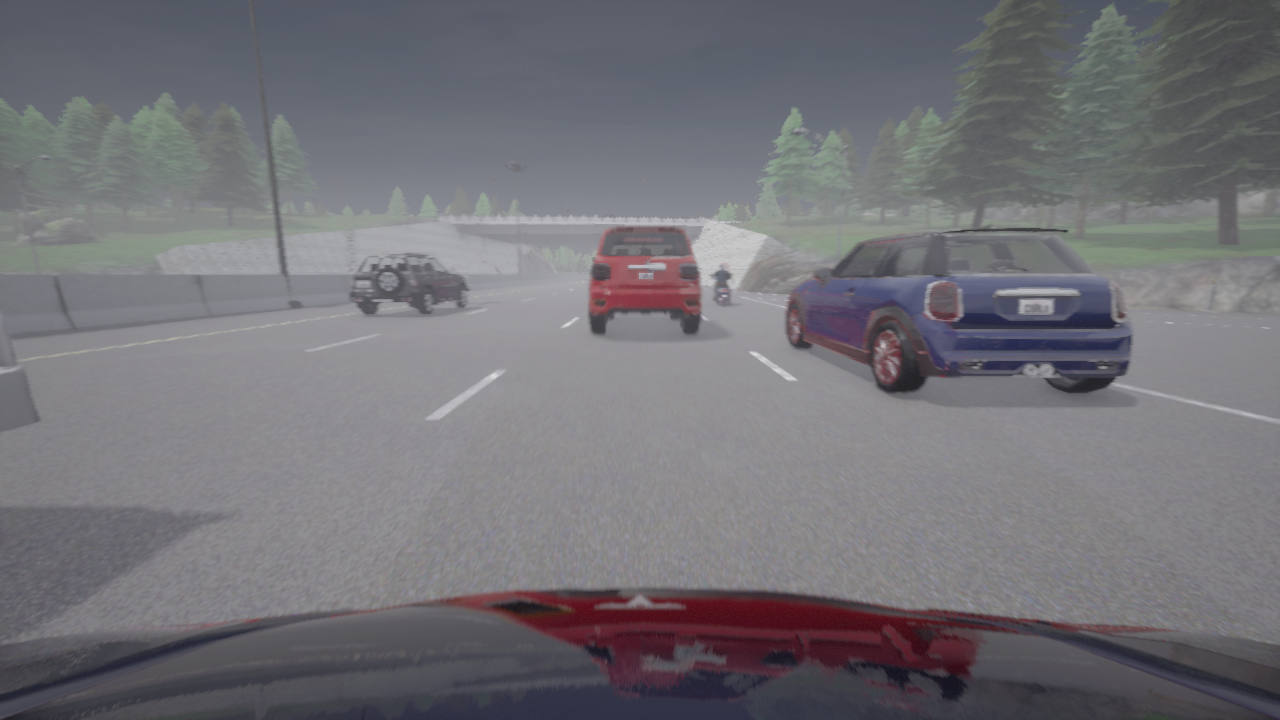cyclist: (0, 588, 1279, 719), (785, 215, 1133, 394), (588, 226, 701, 334), (348, 252, 469, 315), (709, 273, 730, 305)
